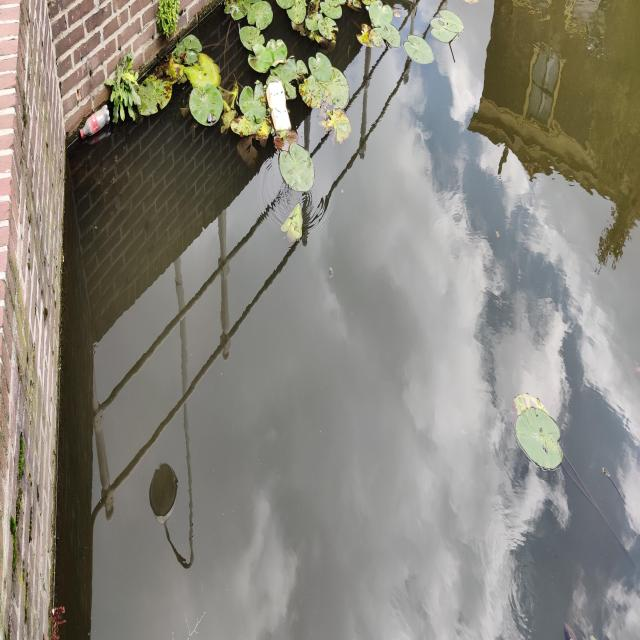litter: (262, 69, 294, 142)
